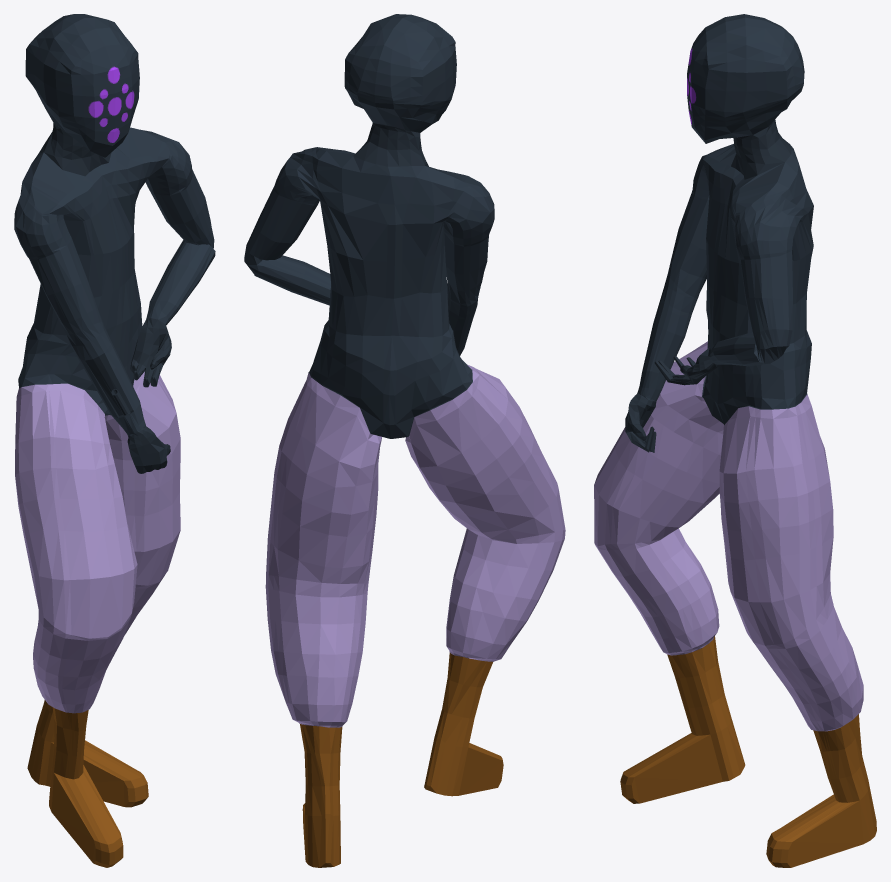
Rendered from Oracle_WB_000024.obj.
3 renders of one model, left to right at view 1: azimuth 30°, elevation 25°; view 2: azimuth 150°, elevation 25°; view 3: azimuth 270°, elevation 25°, orthographic.
Parts seen in each view (by area): view 1: Cube; view 2: Cube; view 3: Cube.
Boxes of the visible parts, x1=… form: Cube: x1=14, y1=14, x2=215, y2=867; Cube: x1=244, y1=14, x2=565, y2=867; Cube: x1=594, y1=14, x2=876, y2=867.
Size of the model in its own units: 1.2 by 3.88 by 1.22.
